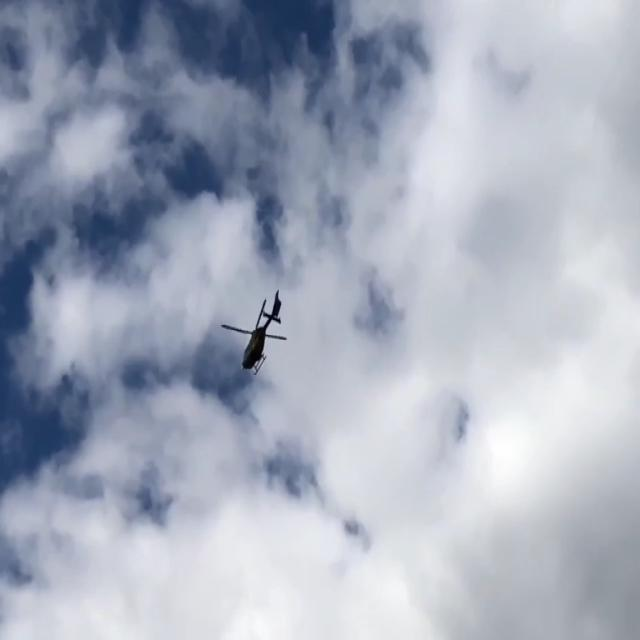Helicopter: (212, 280, 309, 384)
